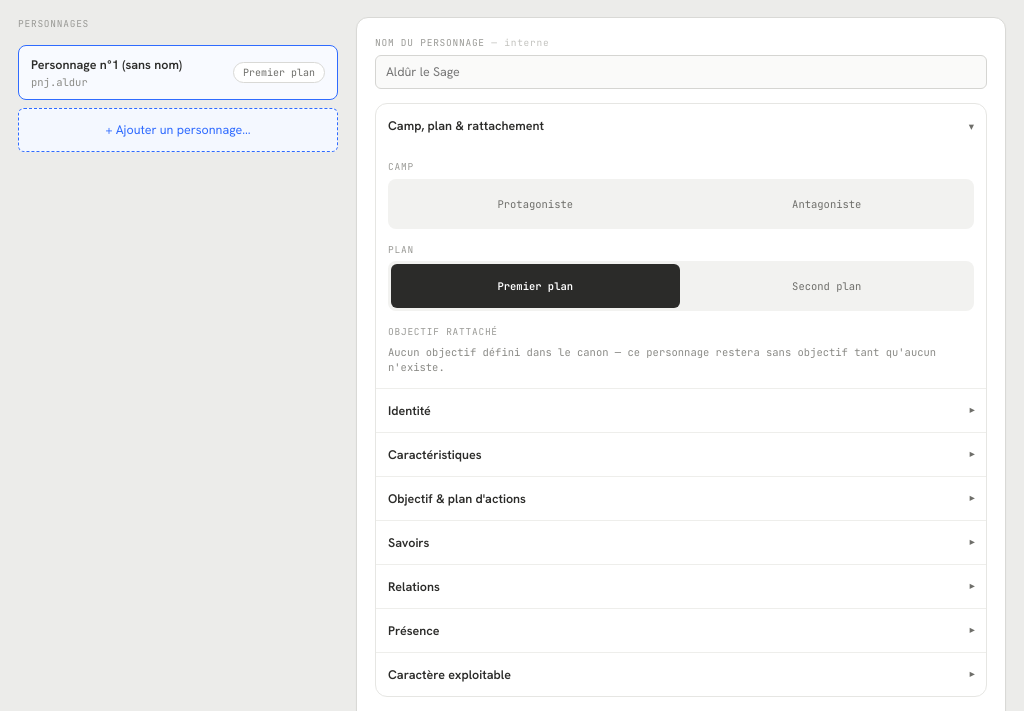
FichePersonnage - bloc Caractere › un document portant PARLER_REPLIQUES + 1 repliques rend les trois, sans refus
Click the button "Caractère exploitable ▾".
click(449, 674)  # box [376,652,986,696]
(page scrolled)
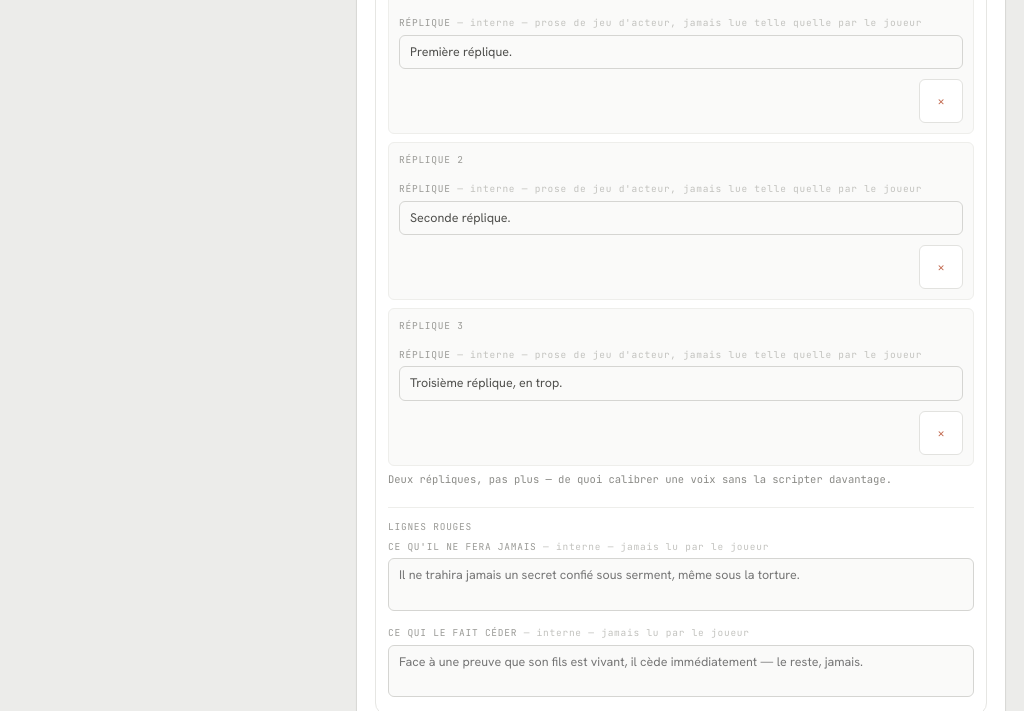
Check: the field showing "Première réplique." below "RÉPLIQUE 1" is shown, box [399,35,963,69]
Check: the field showing "Seconde réplique." below "RÉPLIQUE 2" is shown, box [399,201,963,235]
Check: the field showing "Troisième réplique, en trop." below "RÉPLIQUE 3" is shown, box [399,366,963,401]
